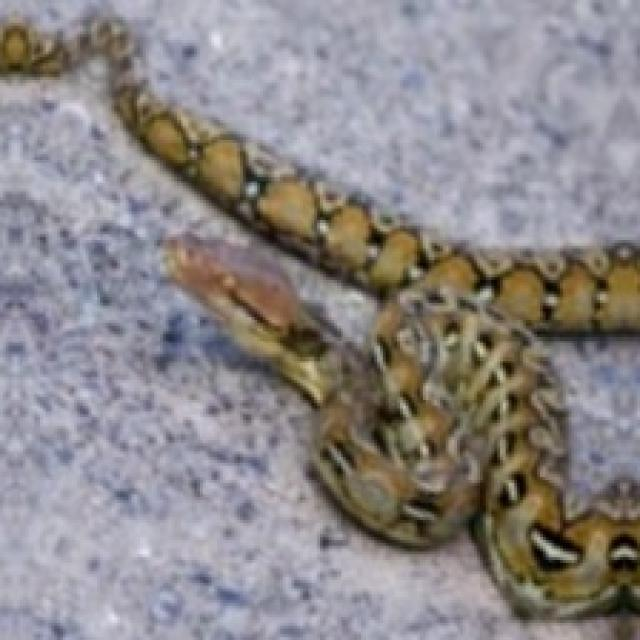reticulated python: (1, 19, 640, 618)
